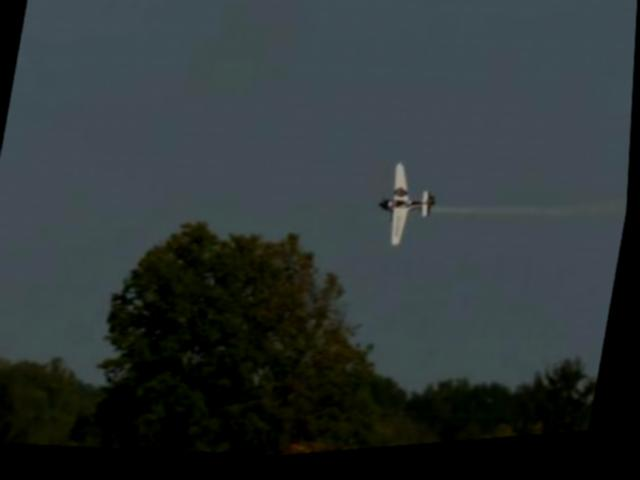uav: (366, 160, 445, 262)
